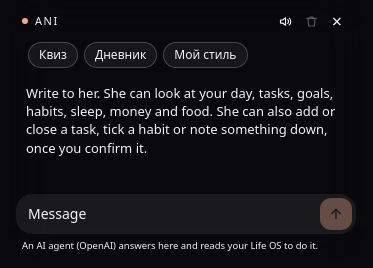
it: AniChat › sends on Enter and polls the turn until her reply
Expected: the text "Write to her" is shown, [26,84,335,157]
Type "Как мой день?" into the text box named "Message to Ani" at (167, 214), box [20,198,314,230]
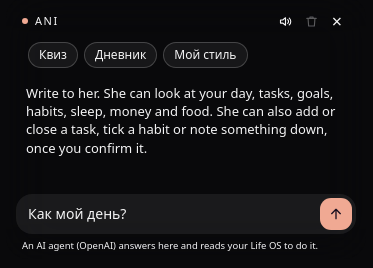
Press Enter in the text box named "Message to Ani", box [20,198,314,230]
Wait 5000 ms
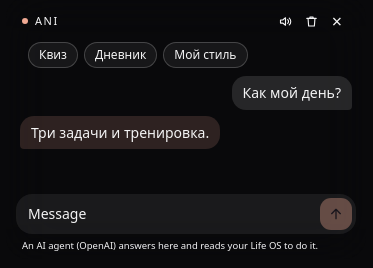
Result: the text "Три задачи и тренировка." is shown at [20,116,220,149]
